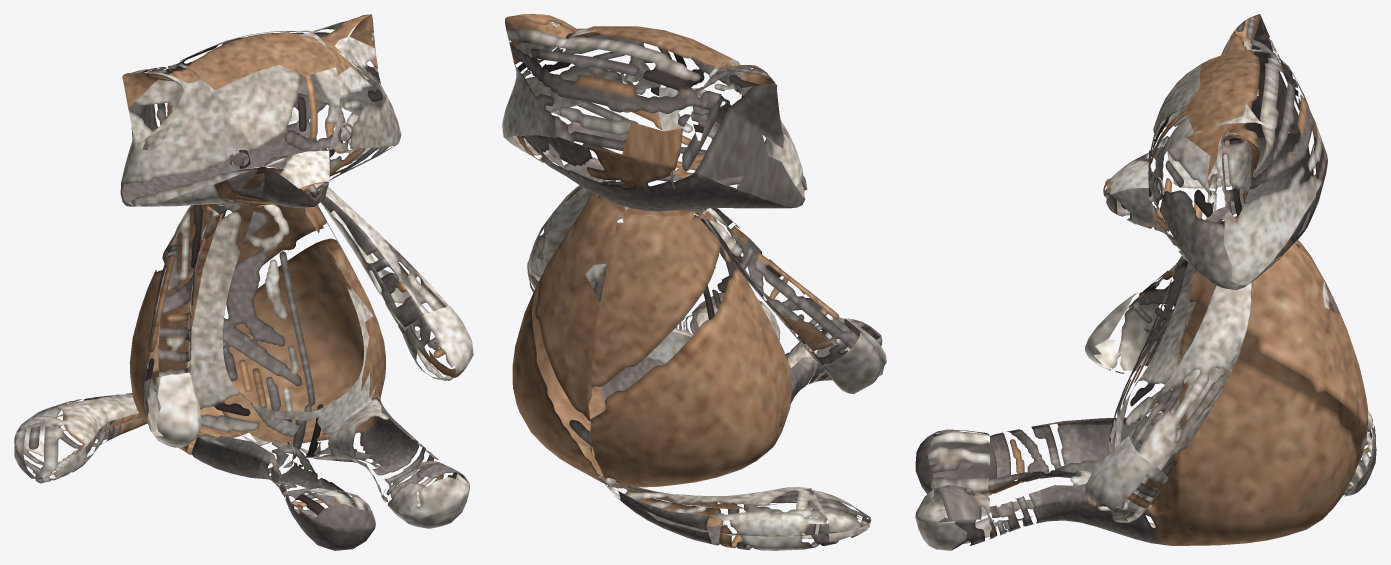
File: raw_model.obj
3 renders of one model, left to right at view 1: azimuth 30°, elevation 25°; view 2: azimuth 150°, elevation 25°; view 3: azimuth 270°, elevation 25°, orthographic. The views are drawn at different scales.
Visible parts, largest first — view 1: solid_002, solid_005, solid_001; view 2: solid_002, solid_005, solid_001; view 3: solid_002, solid_005, solid_001.
Part boxes in pixels (box(x1,y1,x2,y2)): solid_002: box(15, 14, 448, 517); solid_005: box(14, 14, 473, 550); solid_001: box(128, 36, 395, 411); solid_002: box(502, 14, 860, 550); solid_005: box(505, 16, 886, 545); solid_001: box(511, 25, 804, 319); solid_002: box(988, 14, 1376, 545); solid_005: box(915, 14, 1372, 550); solid_001: box(1106, 42, 1252, 442).
Bounding box in the file's own units: 0.1967 × 0.2042 × 0.1871.
